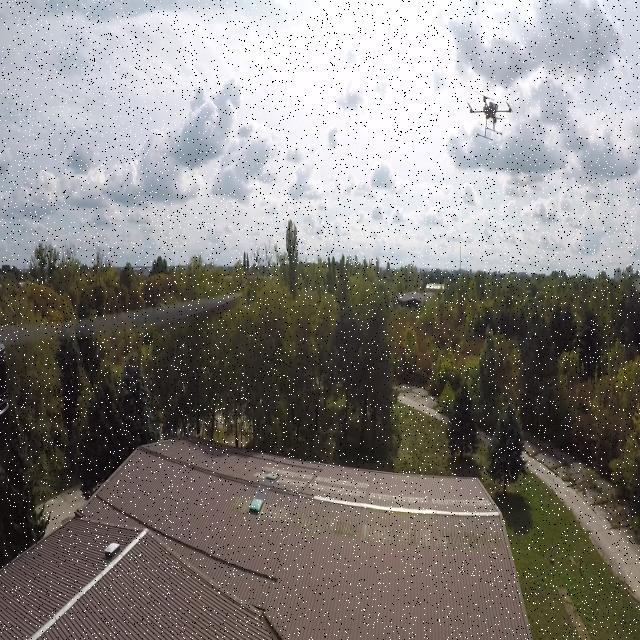UAV: (465, 88, 517, 143)
